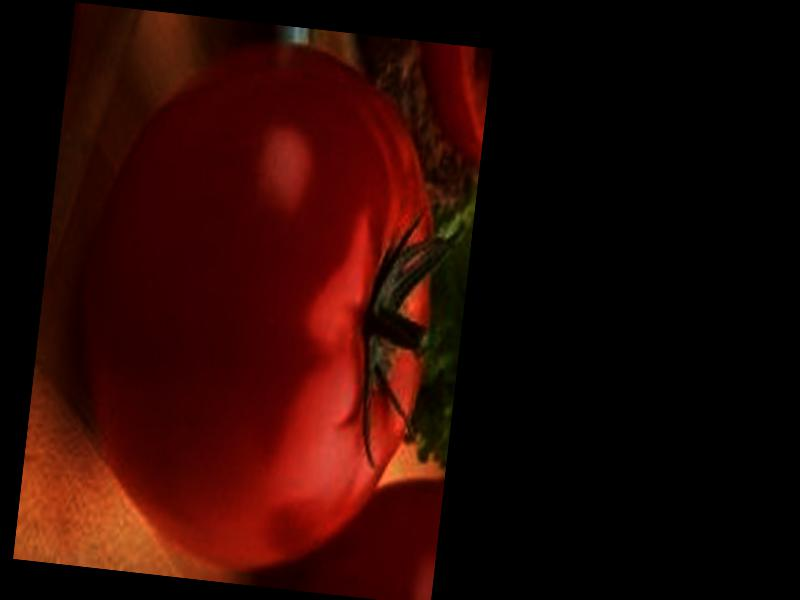Tomato: (60, 26, 457, 586)
